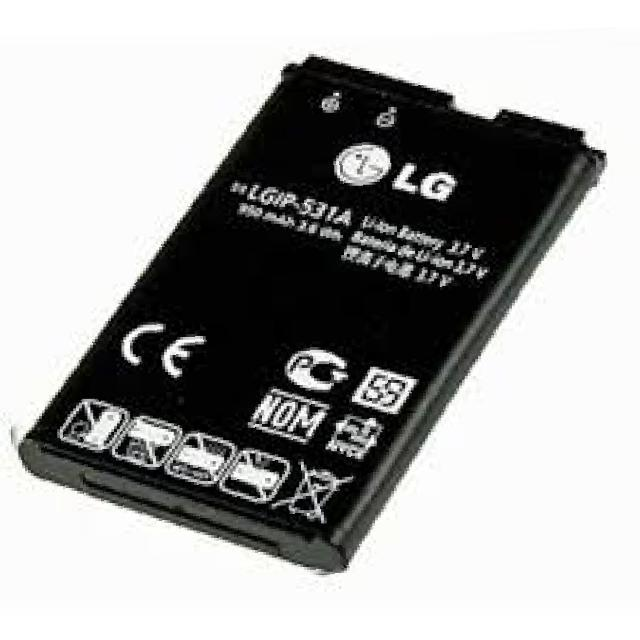Battery: (19, 30, 639, 576)
